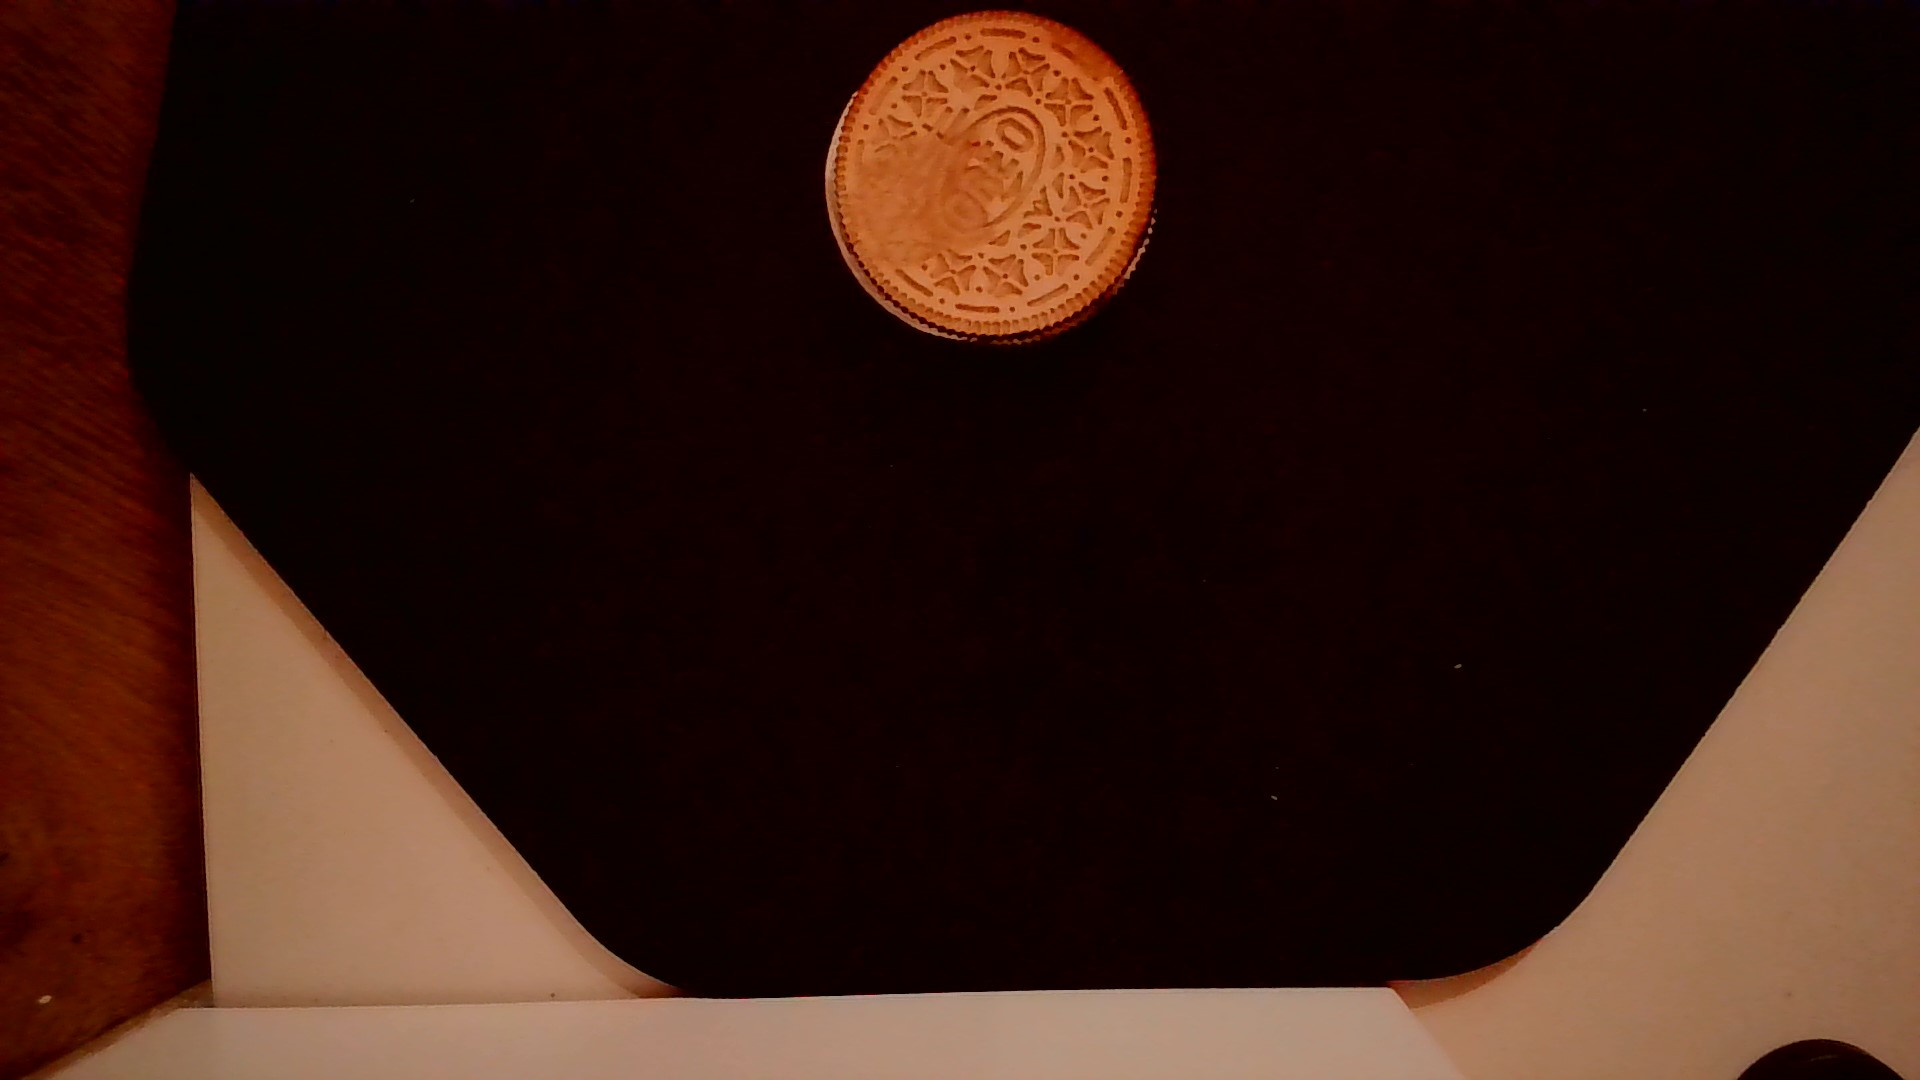Décalé: (802, 98, 968, 371)
Effacé: (858, 112, 968, 268)
Oréo: (822, 7, 1167, 353)
